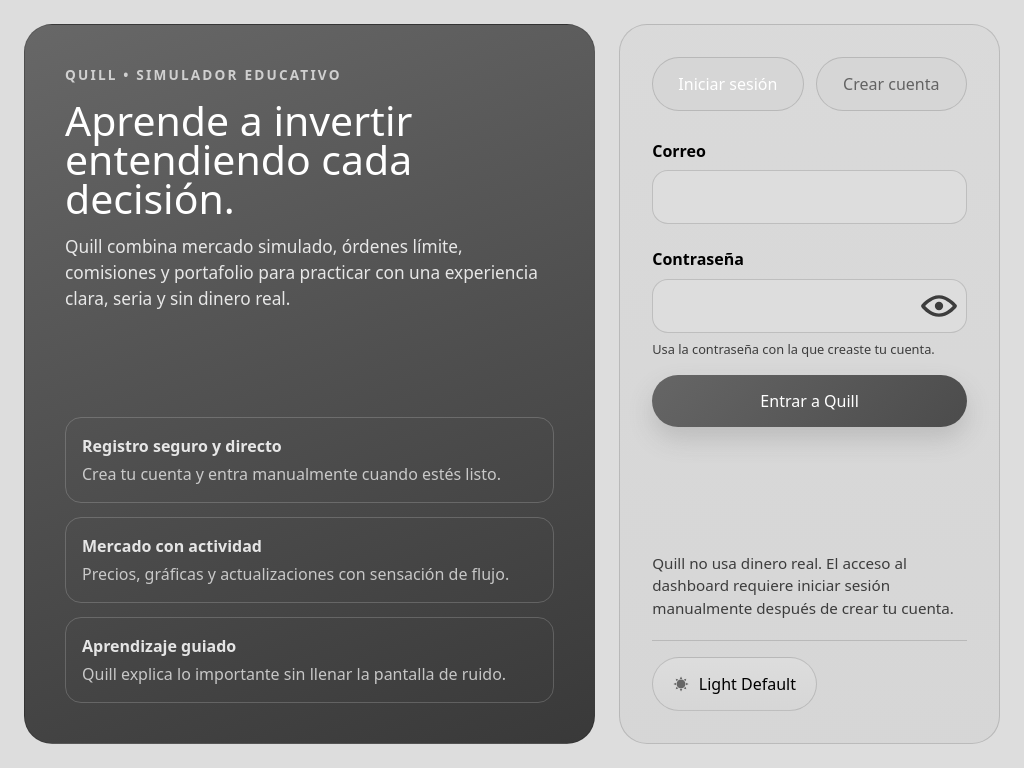
Test: AuthPage › valida el formulario de login antes de enviarlo
Type "ana@quill.dev" into the field labelled "Correo" at x=810, y=197, box top-left (652, 170), bottom-right (967, 224)
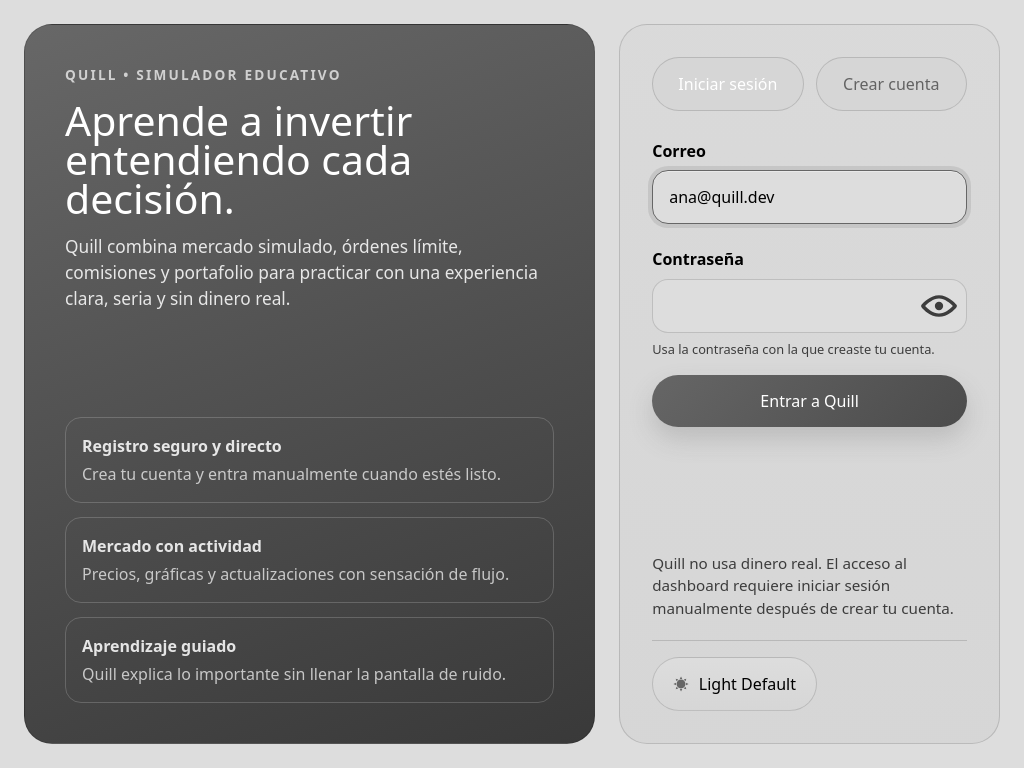
Type "123" into the password field labelled "Contraseña Usa la contraseña con la que creaste tu cuenta." at x=810, y=306, box top-left (652, 279), bottom-right (967, 333)
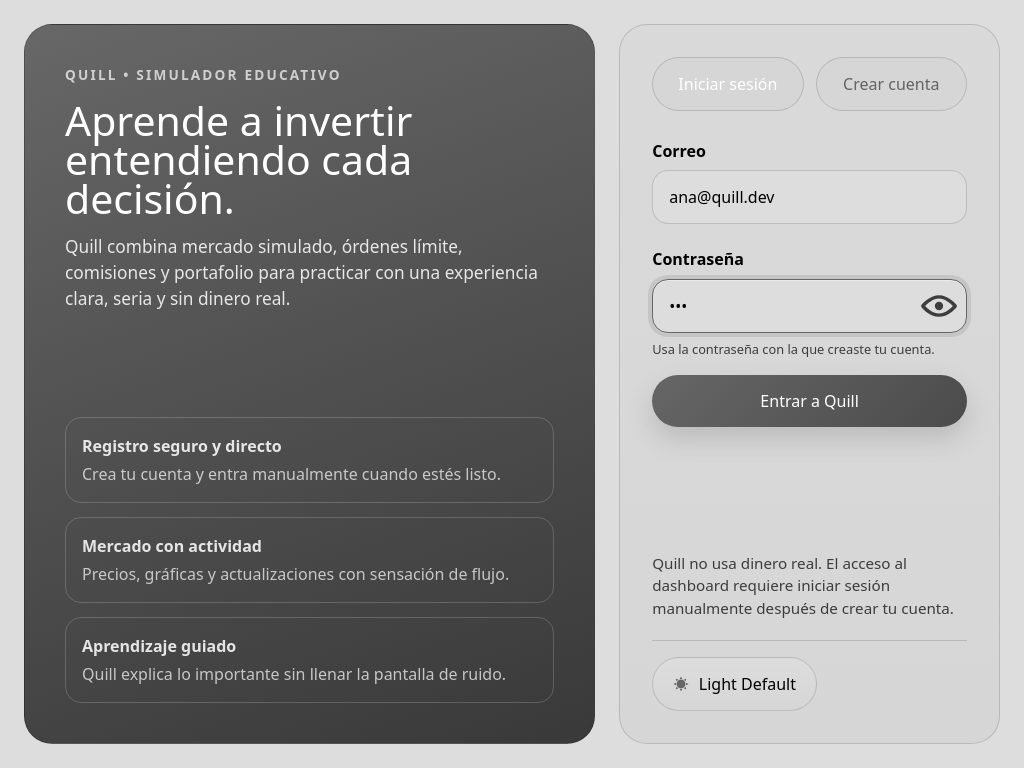
Click the button "Entrar a Quill" at x=810, y=401, box top-left (652, 375), bottom-right (967, 427)
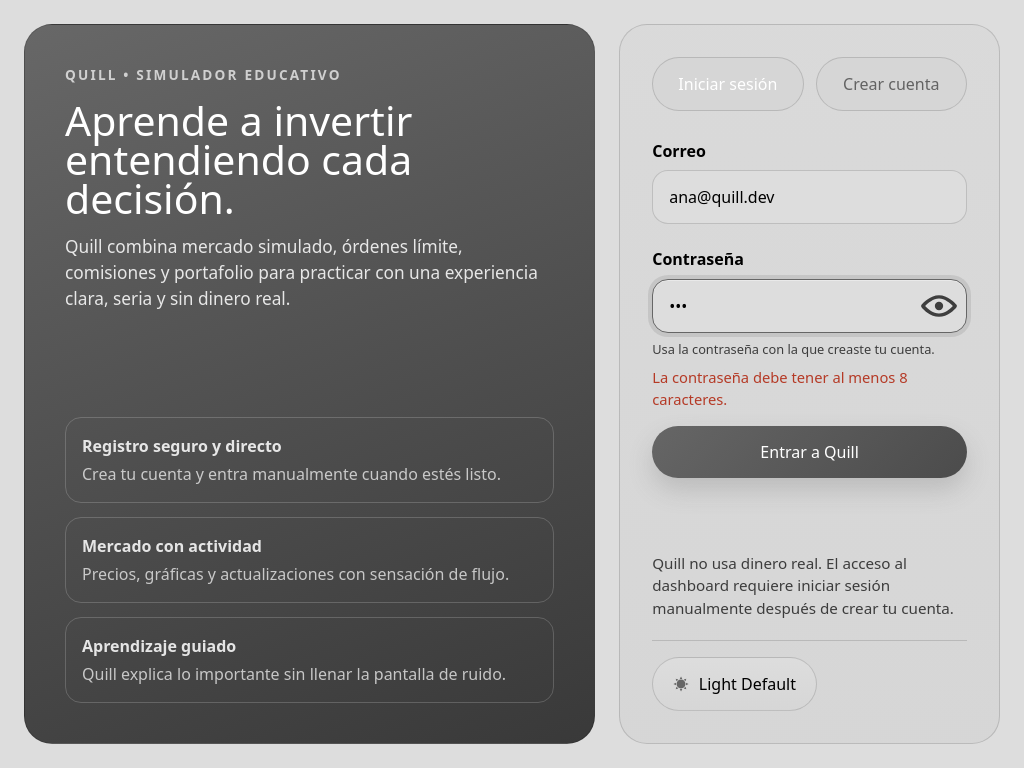
Expected: the text "La contraseña debe tener al menos 8 caracteres." is shown, top-left (652, 367), bottom-right (908, 409)
